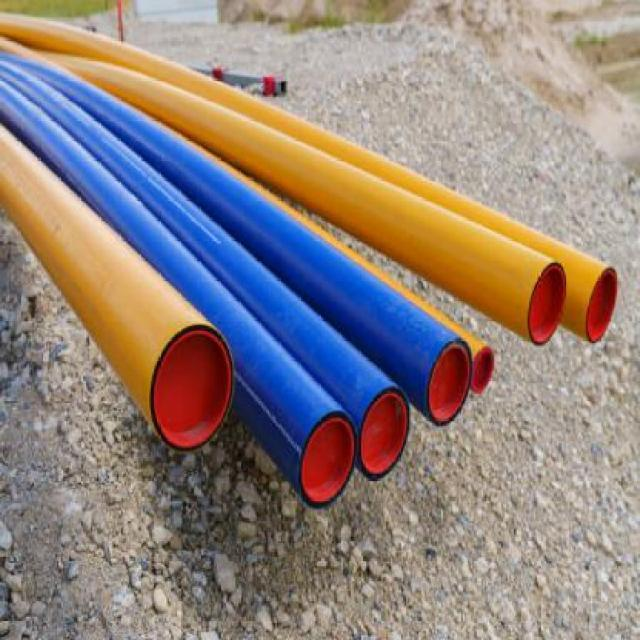pipe: (150, 324, 233, 452), (298, 411, 357, 508), (357, 386, 411, 480), (425, 338, 473, 427), (528, 262, 567, 347), (585, 267, 618, 343), (472, 346, 494, 394)
